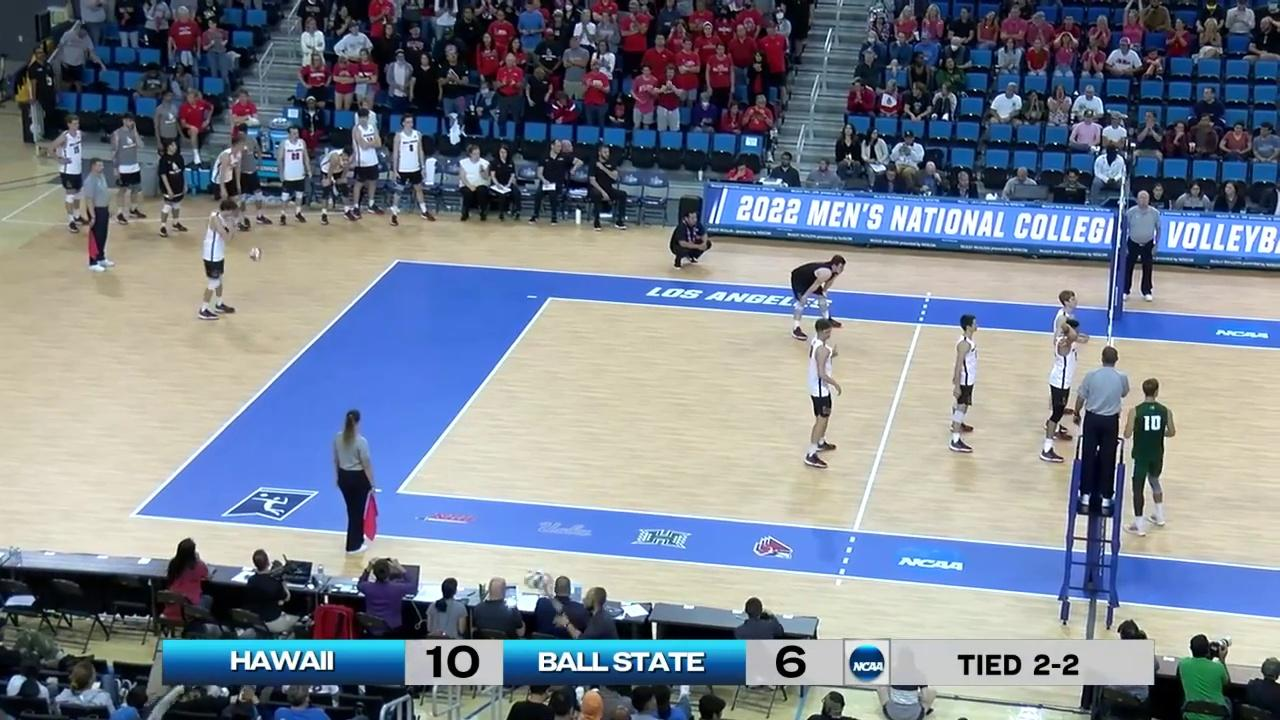player: (1123, 379, 1175, 532), (804, 320, 843, 469), (1041, 322, 1082, 462), (1044, 290, 1080, 438), (200, 200, 244, 318), (789, 255, 849, 339), (950, 314, 984, 454)
refree: (1077, 345, 1126, 506), (332, 411, 375, 553), (1121, 190, 1160, 301), (82, 156, 118, 272)
